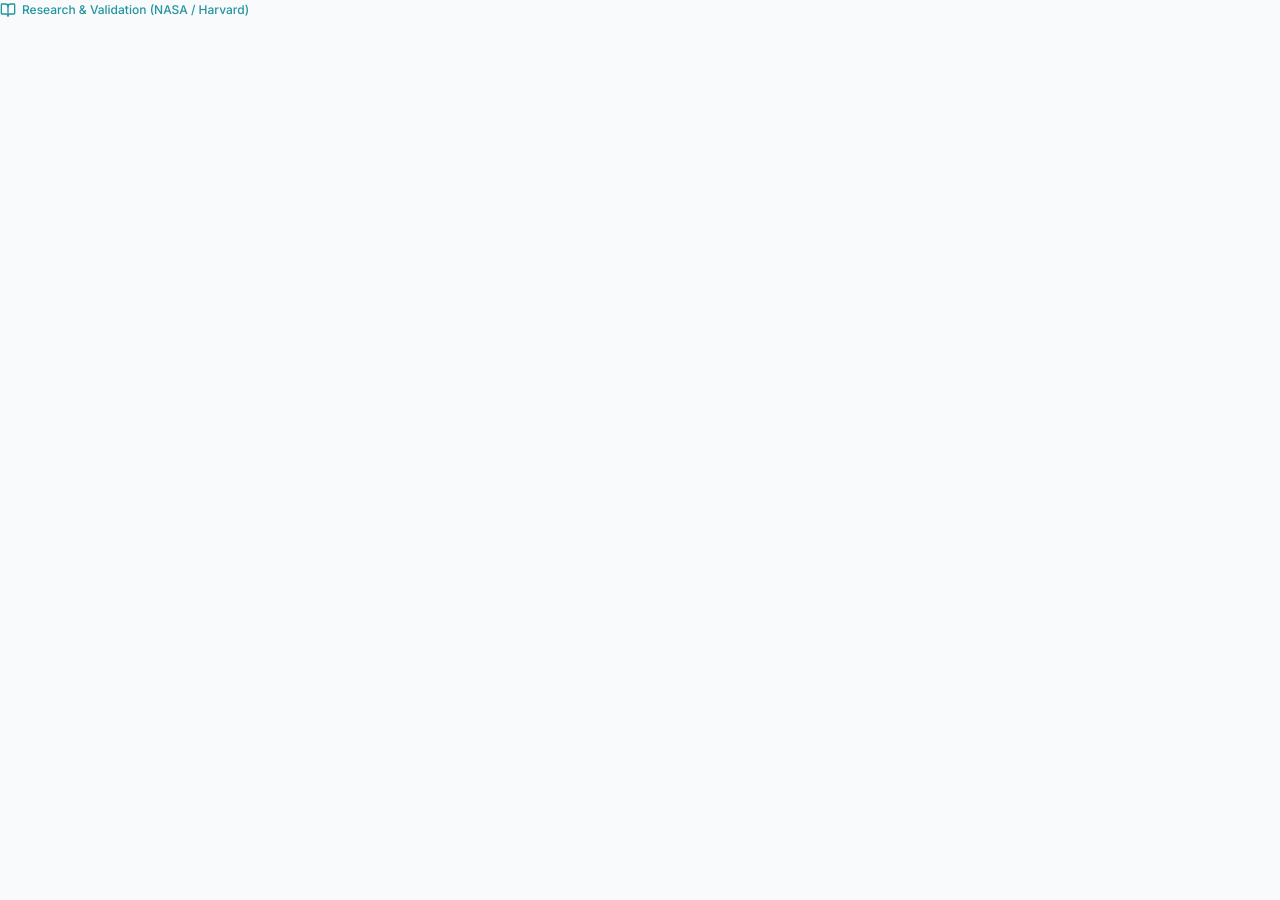
Test: ResearchValidationModal Component › abre o modal através do gatilho por teclado/clique e exibe a tabela acessível
Step 1. Click the button with aria-label "Base Científica — Research & Validation" → {"x": 125, "y": 10}, box [0,2,249,18]
(page scrolled)
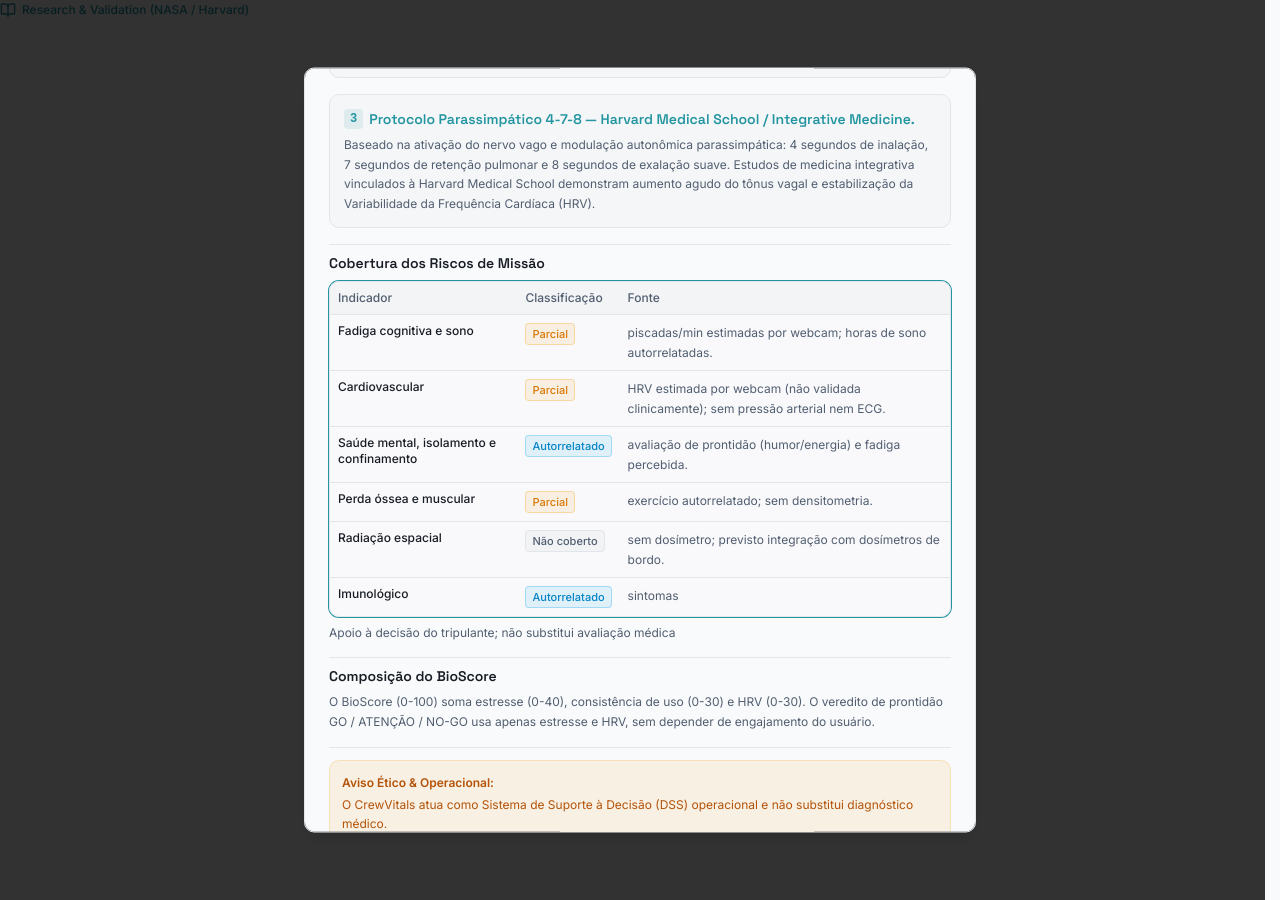
Now the element named "Tabela de Cobertura dos Riscos de Missão" is shown, box [329,282,951,618]
